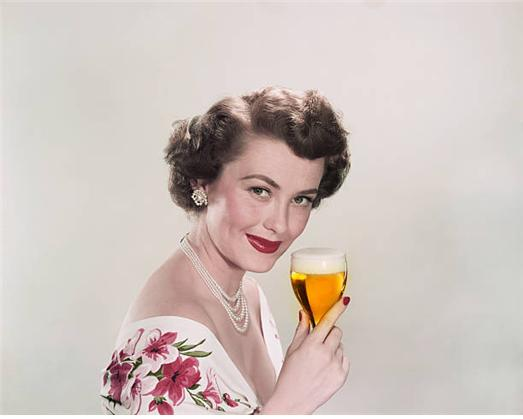alcohol: (290, 246, 349, 331)
